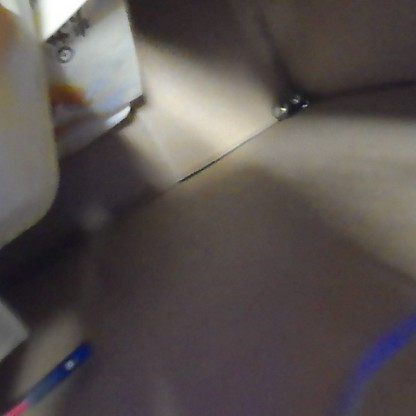ironball: (266, 96, 286, 122), (282, 85, 303, 107)
